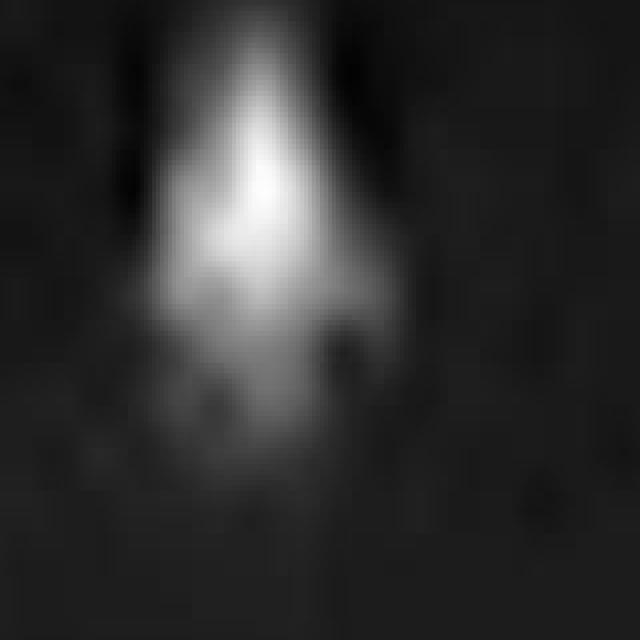person: (145, 1, 381, 422)
